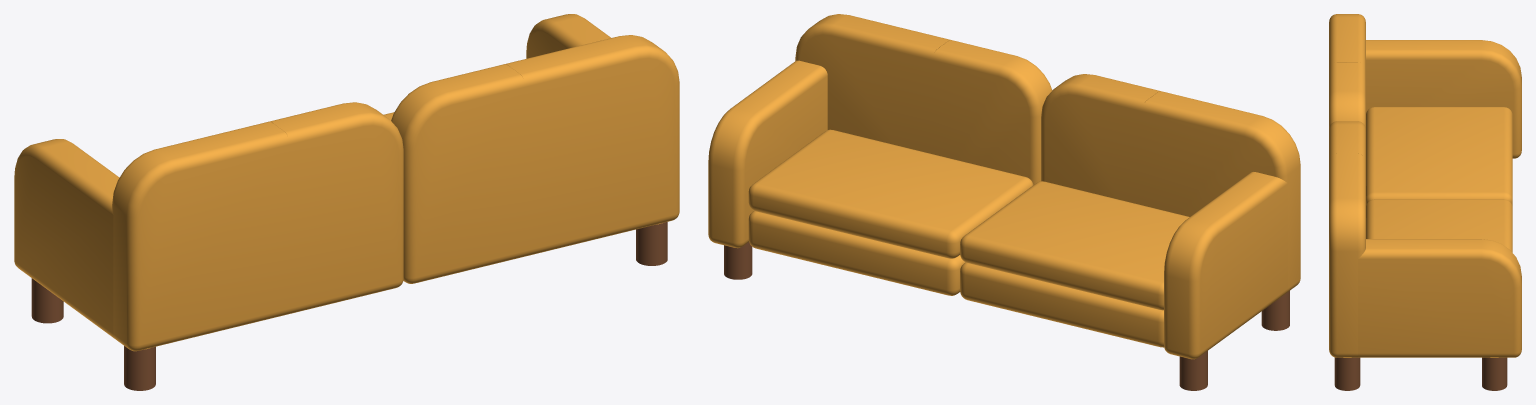
Rendered from Couch3.fbx.
3 renders of one model, left to right at view 1: azimuth 30°, elevation 25°; view 2: azimuth 150°, elevation 25°; view 3: azimuth 270°, elevation 25°, orthographic. The views are drawn at different scales.
Parts seen in each view (by area): view 1: Couch3; view 2: Couch3; view 3: Couch3.
Boxes of the visible parts, <box> form: Couch3: <box>14,14,679,390</box>; Couch3: <box>708,14,1300,390</box>; Couch3: <box>1329,14,1521,390</box>.
Bounding box in the file's own units: 207 × 80.21 × 78.66.
